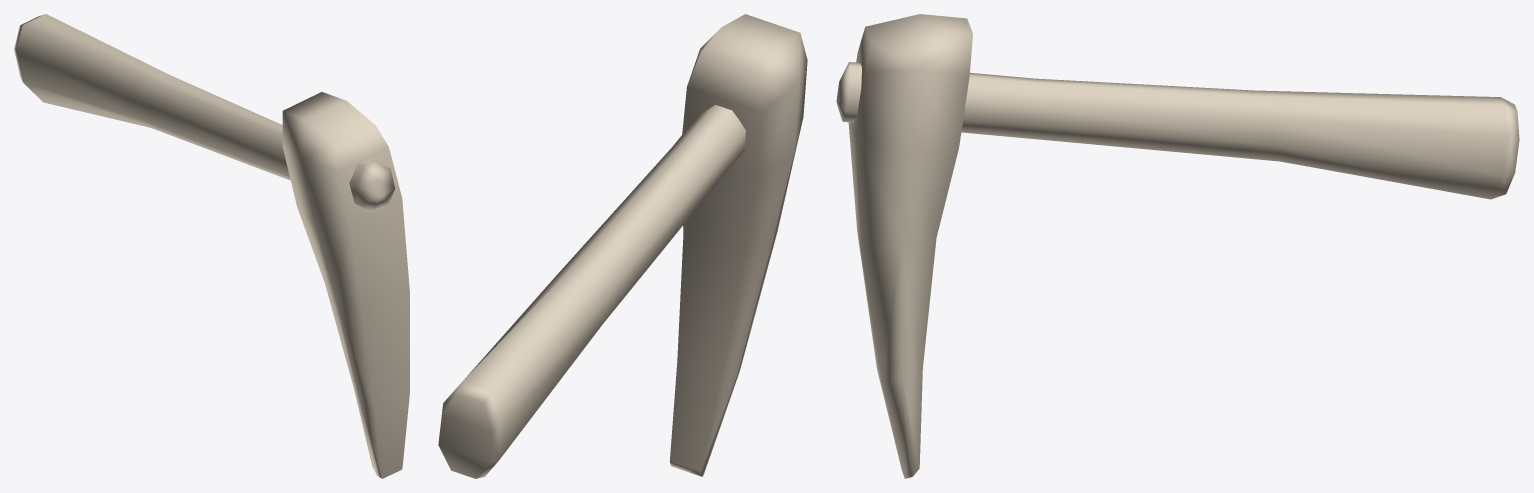
The model's file is pickaxe-base.glb.
3 renders of one model, left to right at view 1: azimuth 30°, elevation 25°; view 2: azimuth 150°, elevation 25°; view 3: azimuth 270°, elevation 25°, orthographic. The views are drawn at different scales.
Size of the model in its own units: 0.1406 by 0.4105 by 0.5952.
